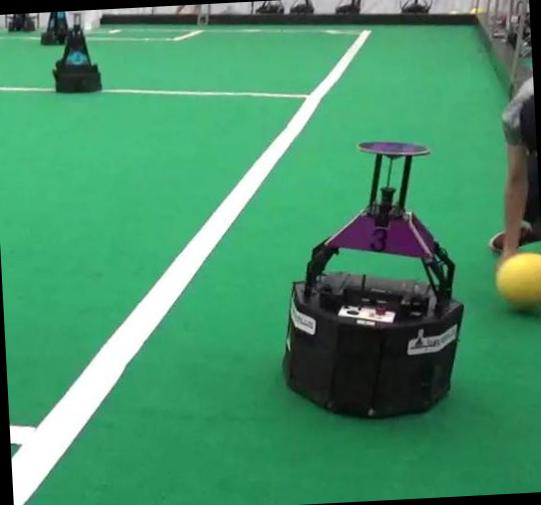ball: (495, 251, 541, 308)
robot: (283, 140, 461, 415), (52, 12, 101, 92), (40, 11, 67, 43), (5, 12, 34, 30)
